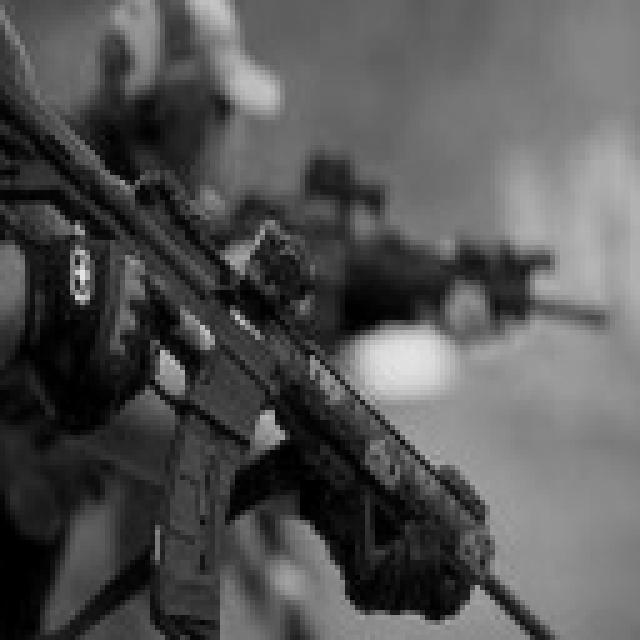Rifle: (0, 0, 554, 640), (321, 213, 614, 385)
